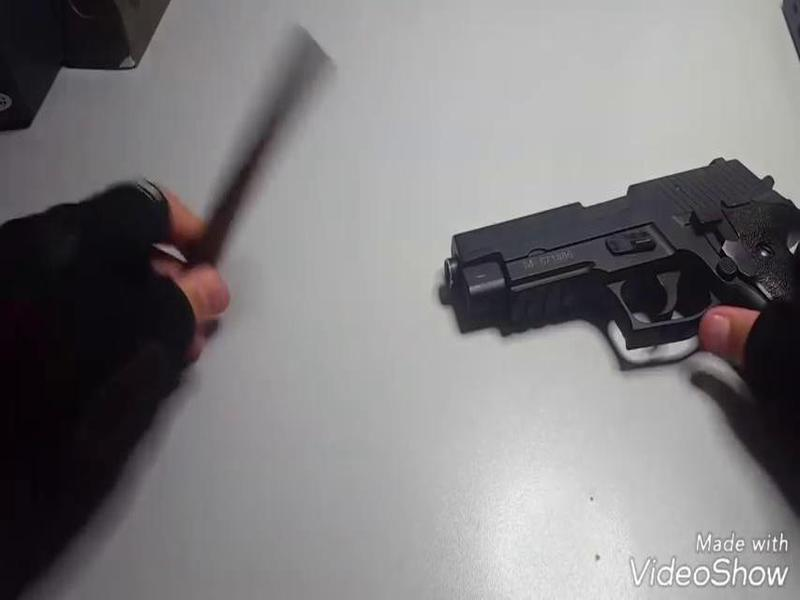Pistola: (413, 148, 800, 375)
